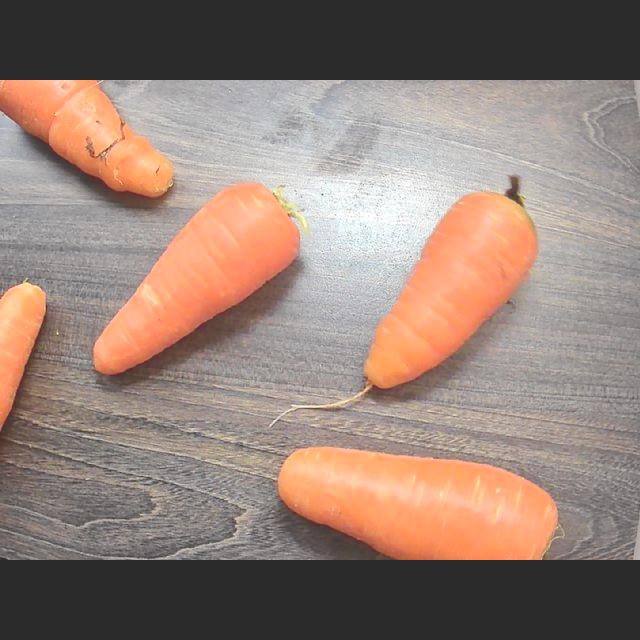zanahoria: (273, 176, 537, 424), (93, 182, 307, 374), (278, 446, 558, 559), (1, 80, 173, 196), (1, 282, 45, 429)
